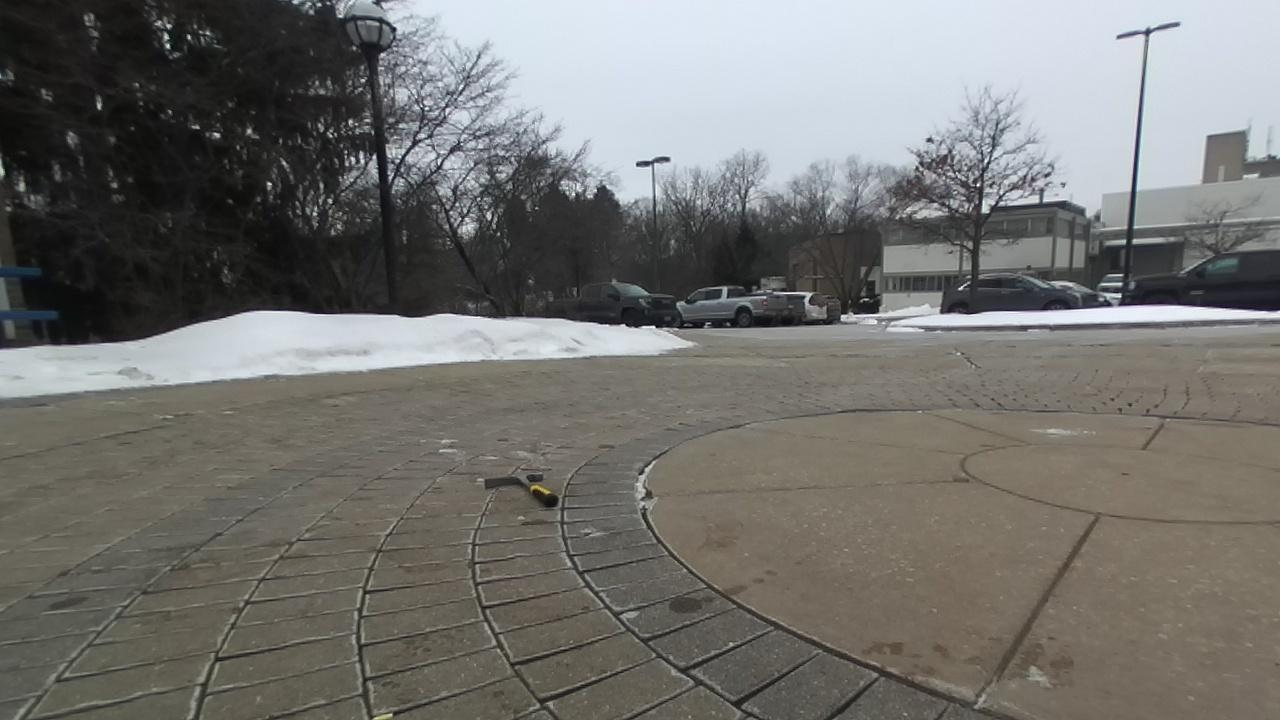pick: (485, 474, 558, 507)
